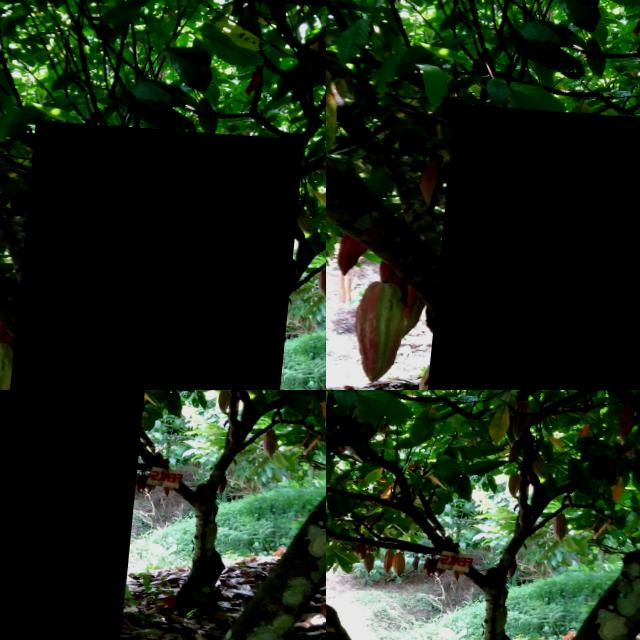Monilia: (427, 101, 640, 390)
Sana: (10, 117, 306, 390), (105, 390, 326, 622), (0, 390, 151, 640), (533, 446, 557, 473), (559, 505, 574, 533), (397, 548, 414, 571), (512, 465, 525, 491), (369, 547, 383, 569), (389, 545, 401, 567)
